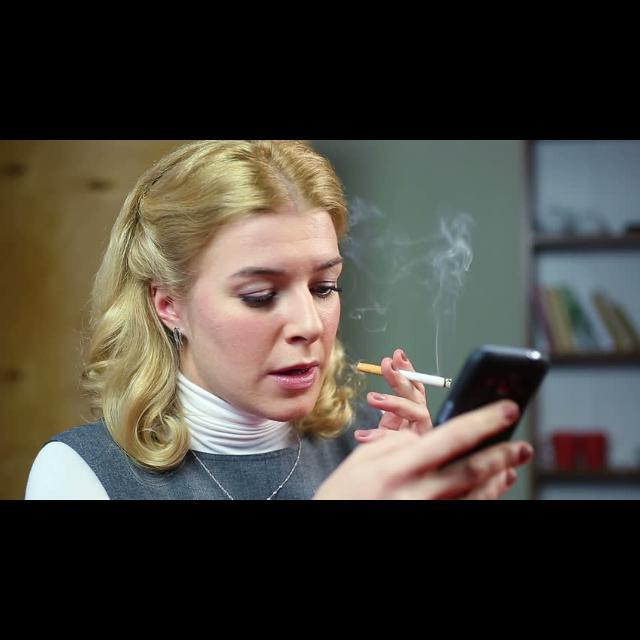rokok: (358, 360, 458, 392)
